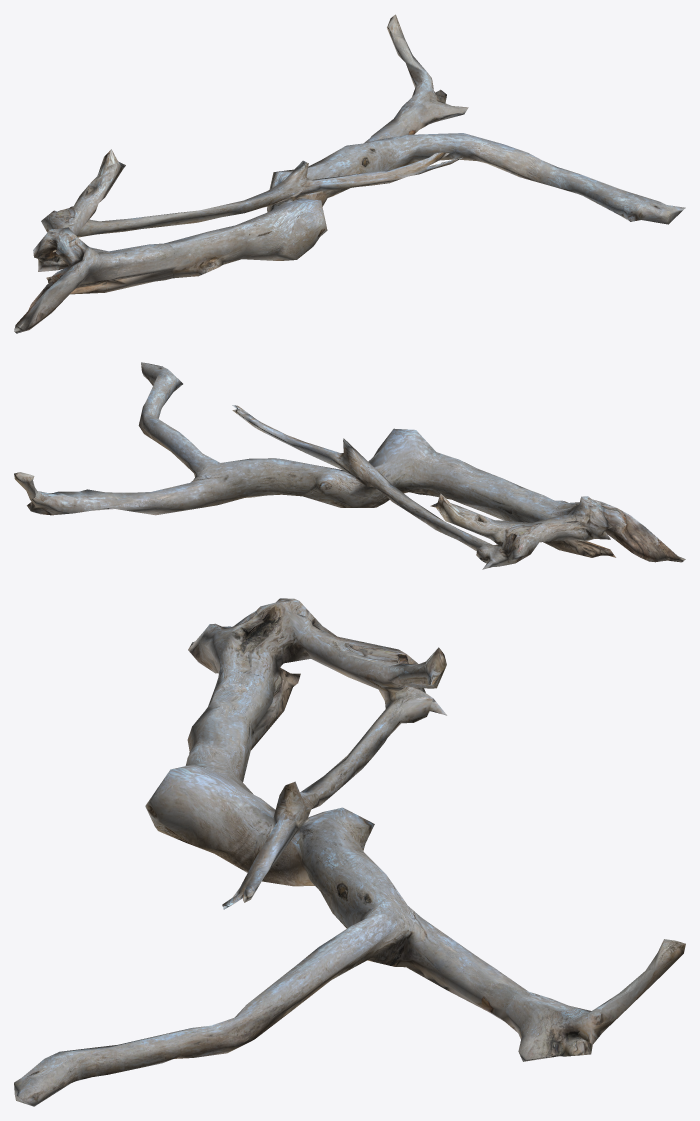
Rendered from Tree_Log_Low_Poly.fbx.
3 views of the same model, one above another, from view 1: azimuth 30°, elevation 25°; view 2: azimuth 150°, elevation 25°; view 3: azimuth 270°, elevation 25° (orthographic). The views are drawn at different scales.
Visible parts, largest first — view 1: Tree_Log_Low_Poly_LOD0; view 2: Tree_Log_Low_Poly_LOD0; view 3: Tree_Log_Low_Poly_LOD0.
Boxes of the visible parts, x1,y1,x2,y2 form: Tree_Log_Low_Poly_LOD0: (14, 14, 685, 333); Tree_Log_Low_Poly_LOD0: (14, 362, 685, 569); Tree_Log_Low_Poly_LOD0: (14, 598, 685, 1106).
Size of what is drawn, in the model's own units: 164 by 22.07 by 98.09.
Materials: 1 (1 with a texture image).
